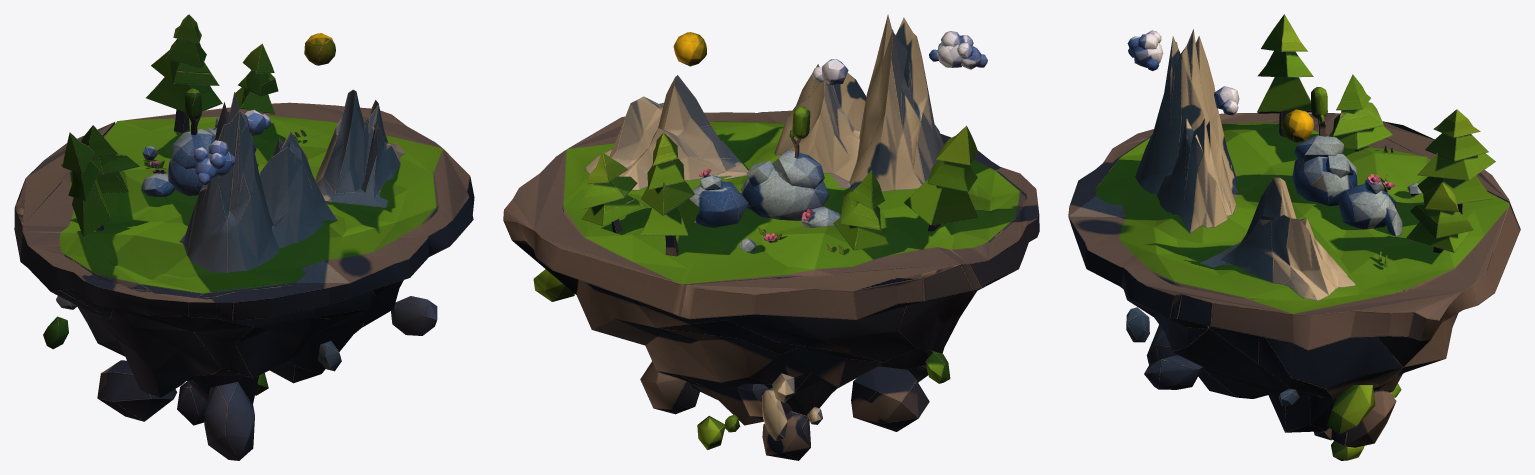
Rendered from lowpoly_island (1).glb.
The picture shows the model from 3 angles, left to right: view 1: azimuth 30°, elevation 25°; view 2: azimuth 150°, elevation 25°; view 3: azimuth 270°, elevation 25°; orthographic projection. The views are drawn at different scales.
Parts seen in each view (by area): view 1: Object_2; view 2: Object_2; view 3: Object_2.
Boxes of the visible parts, left/top/right/bottom form: Object_2: left=14, top=14, right=474, bottom=460; Object_2: left=503, top=14, right=1039, bottom=460; Object_2: left=1068, top=14, right=1520, bottom=460.
Bounding box in the file's own units: 307 × 265 × 278.
Materials: 1 (1 with a texture image).
